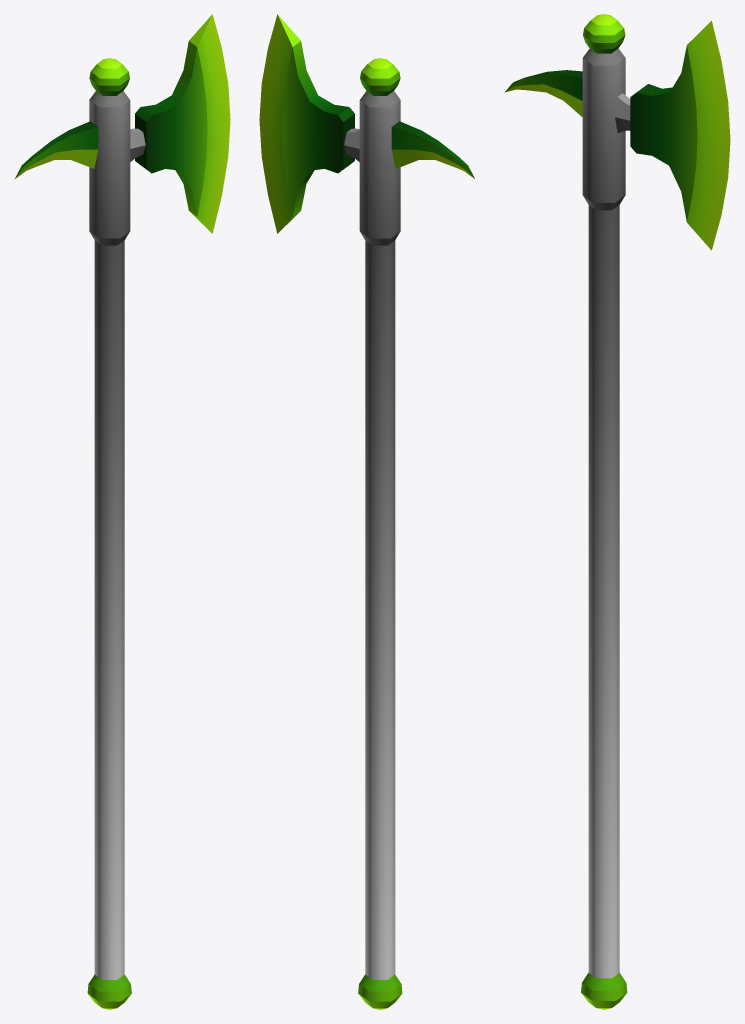
The model's file is Polearm2h_15.fbx.
3 views of the same model, side by side, from view 1: azimuth 30°, elevation 25°; view 2: azimuth 150°, elevation 25°; view 3: azimuth 330°, elevation 25° (orthographic). The views are drawn at different scales.
Visible parts, largest first — view 1: Polearm2h_15; view 2: Polearm2h_15; view 3: Polearm2h_15.
Part boxes in pixels (x1,y1,x2,y2): Polearm2h_15: (15,14,230,1009); Polearm2h_15: (259,14,474,1009); Polearm2h_15: (504,14,730,1009).
Bounding box in the file's own units: 42.33 × 182 × 7.52.
